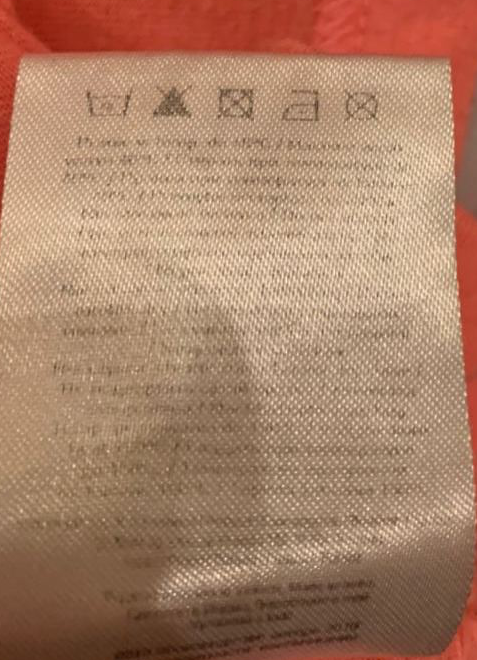do_not_bleach: (149, 81, 196, 119)
do_not_dry_clean: (342, 84, 384, 123)
do_not_tumble_drying: (215, 83, 257, 120)
ironing_at_low_temp: (278, 84, 322, 124)
